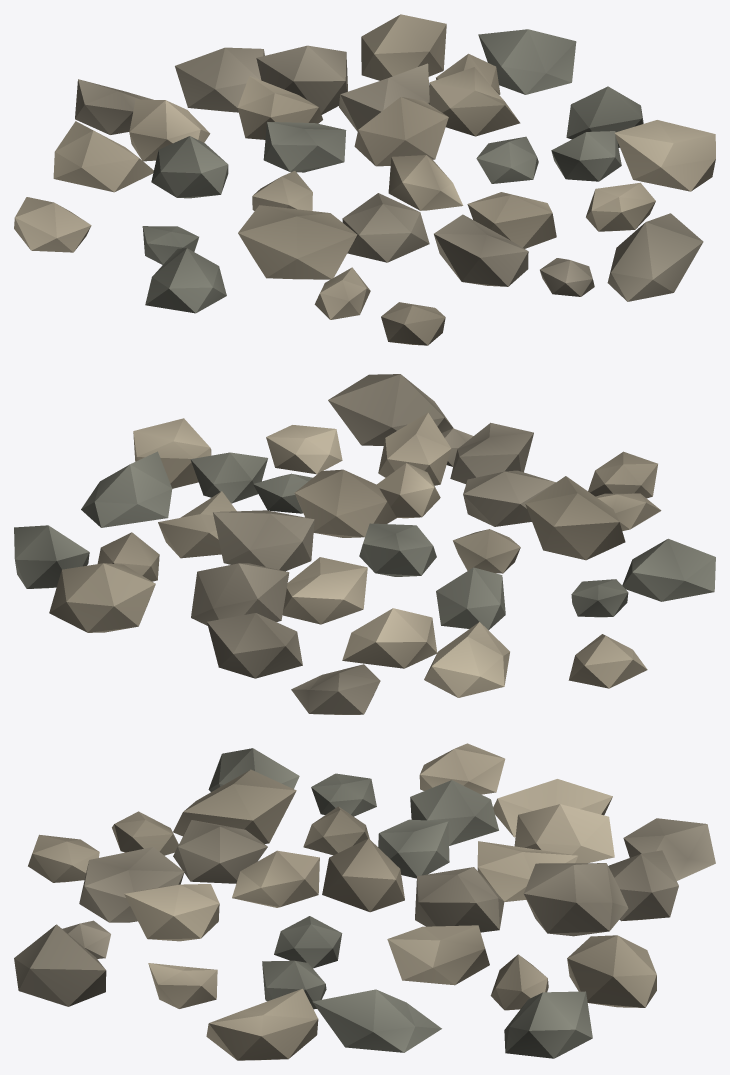
The model's file is pumice.glb.
3 views of the same model, one above another, from view 1: azimuth 30°, elevation 25°; view 2: azimuth 150°, elevation 25°; view 3: azimuth 270°, elevation 25° (orthographic). The views are drawn at different scales.
Visible parts, largest first — view 1: pumice; view 2: pumice; view 3: pumice.
Boxes of the visible parts, <box> form: pumice: <box>14,14,715,345</box>; pumice: <box>14,374,715,714</box>; pumice: <box>14,743,715,1060</box>.
Size of the model in its own units: 0.1825 by 0.032 by 0.1787.
